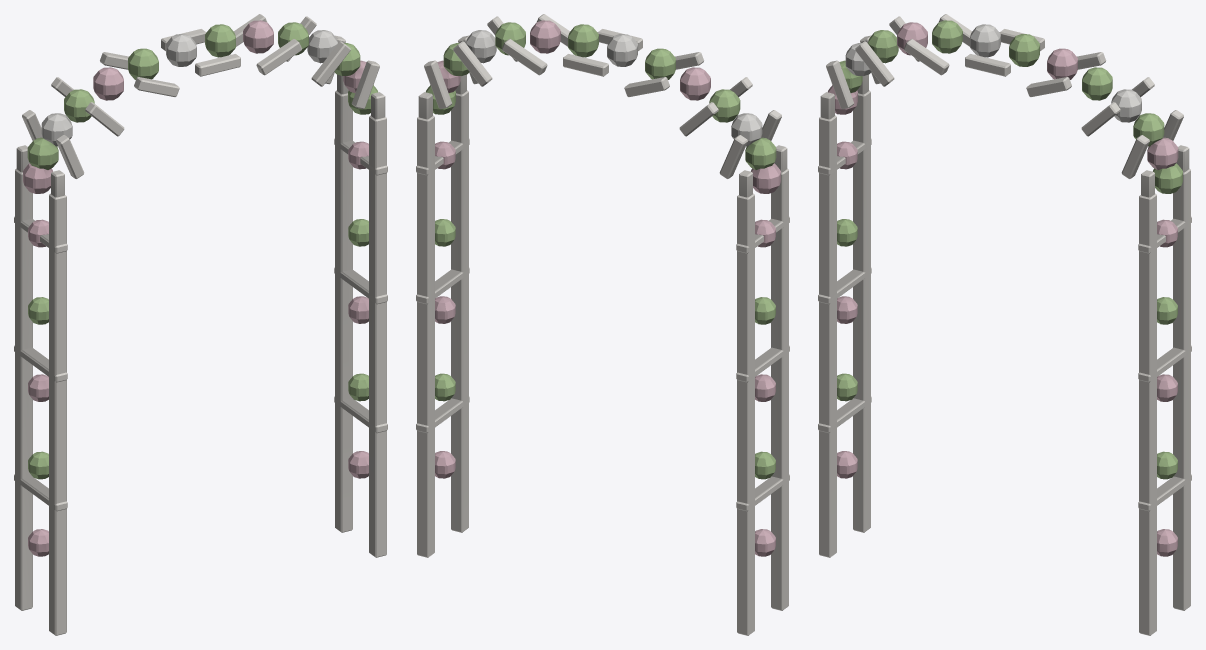
File: arch.glb
3 views of the same model, side by side, from view 1: azimuth 30°, elevation 25°; view 2: azimuth 150°, elevation 25°; view 3: azimuth 330°, elevation 25° (orthographic).
Bounding box in the file's own units: 1.43 × 2.14 × 0.3.
